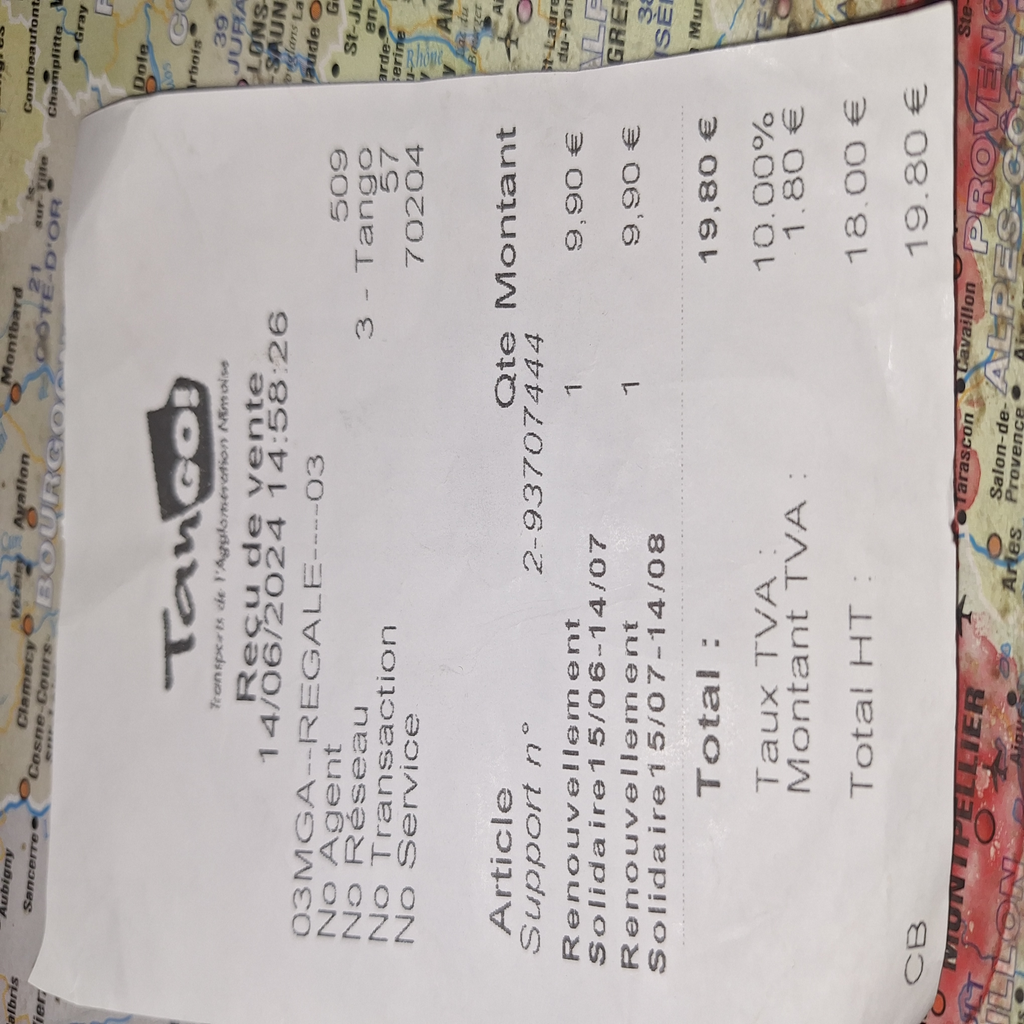recipt: (29, 8, 955, 1022)
